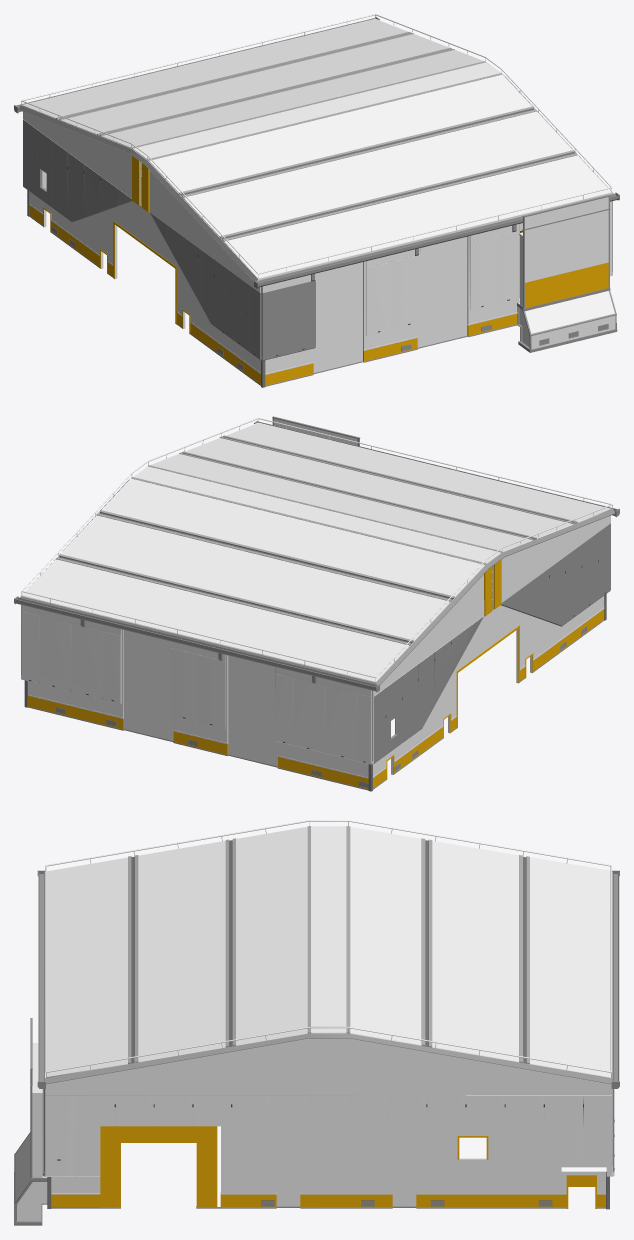
The picture shows the model from 3 angles, top to bottom: view 1: azimuth 30°, elevation 25°; view 2: azimuth 150°, elevation 25°; view 3: azimuth 270°, elevation 25°; orthographic projection. The views are drawn at different scales.
Visible parts, largest first — view 1: SM_H_Building_FutureTech_PrintArea_ExterWall_01E; view 2: SM_H_Building_FutureTech_PrintArea_ExterWall_01E; view 3: SM_H_Building_FutureTech_PrintArea_ExterWall_01E.
Boxes of the visible parts, <box> form: SM_H_Building_FutureTech_PrintArea_ExterWall_01E: <box>14,14,619,387</box>; SM_H_Building_FutureTech_PrintArea_ExterWall_01E: <box>14,416,619,791</box>; SM_H_Building_FutureTech_PrintArea_ExterWall_01E: <box>14,820,619,1225</box>.
Size of the model in its own units: 2310 by 1907 by 857.
